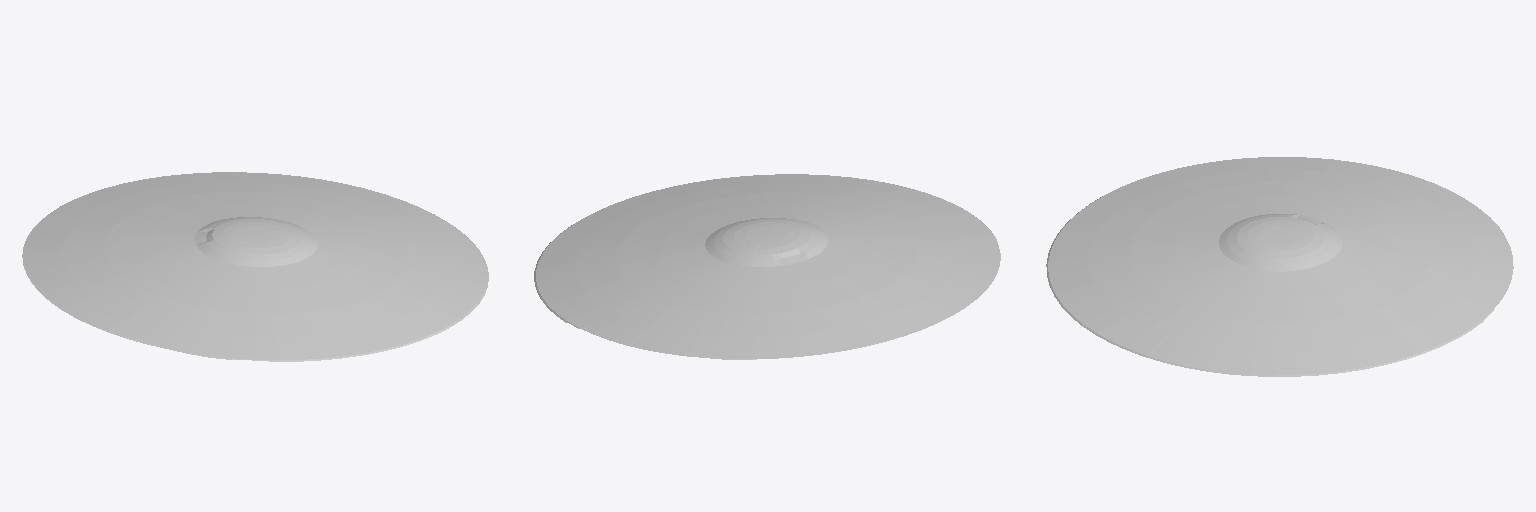
The model's file is drumsetV4_RideSymbal_Keyframe.obj.
3 renders of one model, left to right at view 1: azimuth 30°, elevation 25°; view 2: azimuth 150°, elevation 25°; view 3: azimuth 270°, elevation 25°, orthographic.
Visible parts, largest first — view 1: drumsetV4_RideSymbal_Cylinder.026; view 2: drumsetV4_RideSymbal_Cylinder.026; view 3: drumsetV4_RideSymbal_Cylinder.026.
Part boxes in pixels (bbox=[...]): drumsetV4_RideSymbal_Cylinder.026: bbox=[22, 172, 488, 361]; drumsetV4_RideSymbal_Cylinder.026: bbox=[534, 174, 1000, 359]; drumsetV4_RideSymbal_Cylinder.026: bbox=[1046, 157, 1513, 376].
Size of the model in its own units: 1.71 by 0.1819 by 1.71.